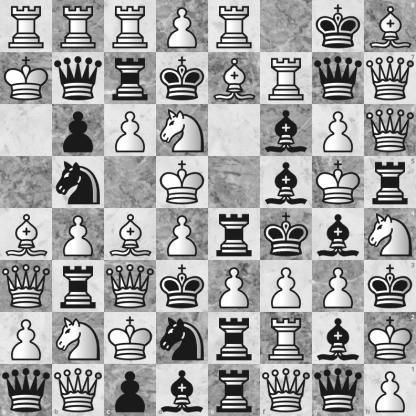B: (364, 0, 416, 52), (1, 209, 52, 260), (105, 209, 156, 260), (209, 53, 260, 104)
K: (364, 312, 416, 364), (1, 53, 52, 104), (105, 313, 156, 364), (157, 157, 208, 208), (313, 157, 364, 208)
N: (364, 209, 416, 260), (53, 313, 104, 364), (157, 105, 208, 156)
P: (364, 364, 416, 416), (1, 313, 52, 364), (53, 209, 104, 260), (105, 105, 156, 156), (157, 1, 208, 52), (157, 209, 208, 260), (209, 261, 260, 312), (261, 261, 312, 312), (313, 105, 364, 156), (313, 261, 364, 312)
Q: (52, 364, 104, 416), (260, 364, 312, 416), (364, 52, 416, 104), (364, 104, 416, 156), (1, 261, 52, 312), (105, 261, 156, 312)
R: (1, 1, 52, 52), (53, 1, 104, 52), (105, 1, 156, 52), (209, 1, 260, 52), (261, 53, 312, 104), (261, 313, 312, 364)
b: (156, 364, 209, 416), (261, 105, 312, 156), (261, 157, 312, 208), (313, 209, 364, 260), (313, 313, 364, 364)
board: (0, 0, 415, 415)
k: (364, 260, 416, 312), (157, 53, 208, 104), (157, 261, 208, 312), (261, 209, 312, 260), (313, 1, 364, 52)
n: (53, 157, 104, 208), (157, 313, 208, 364)
p: (104, 364, 156, 416), (53, 105, 104, 156)
q: (0, 364, 52, 416), (312, 364, 364, 416), (53, 53, 104, 104), (313, 53, 364, 104)
r: (364, 156, 416, 209), (209, 364, 260, 416), (53, 261, 104, 312), (105, 53, 156, 104), (209, 209, 260, 260), (209, 313, 260, 364)
